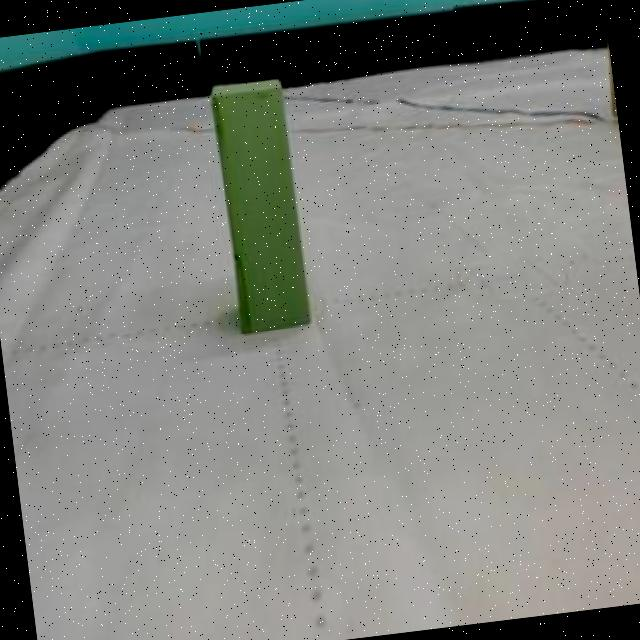greenbox: (206, 70, 315, 336)
